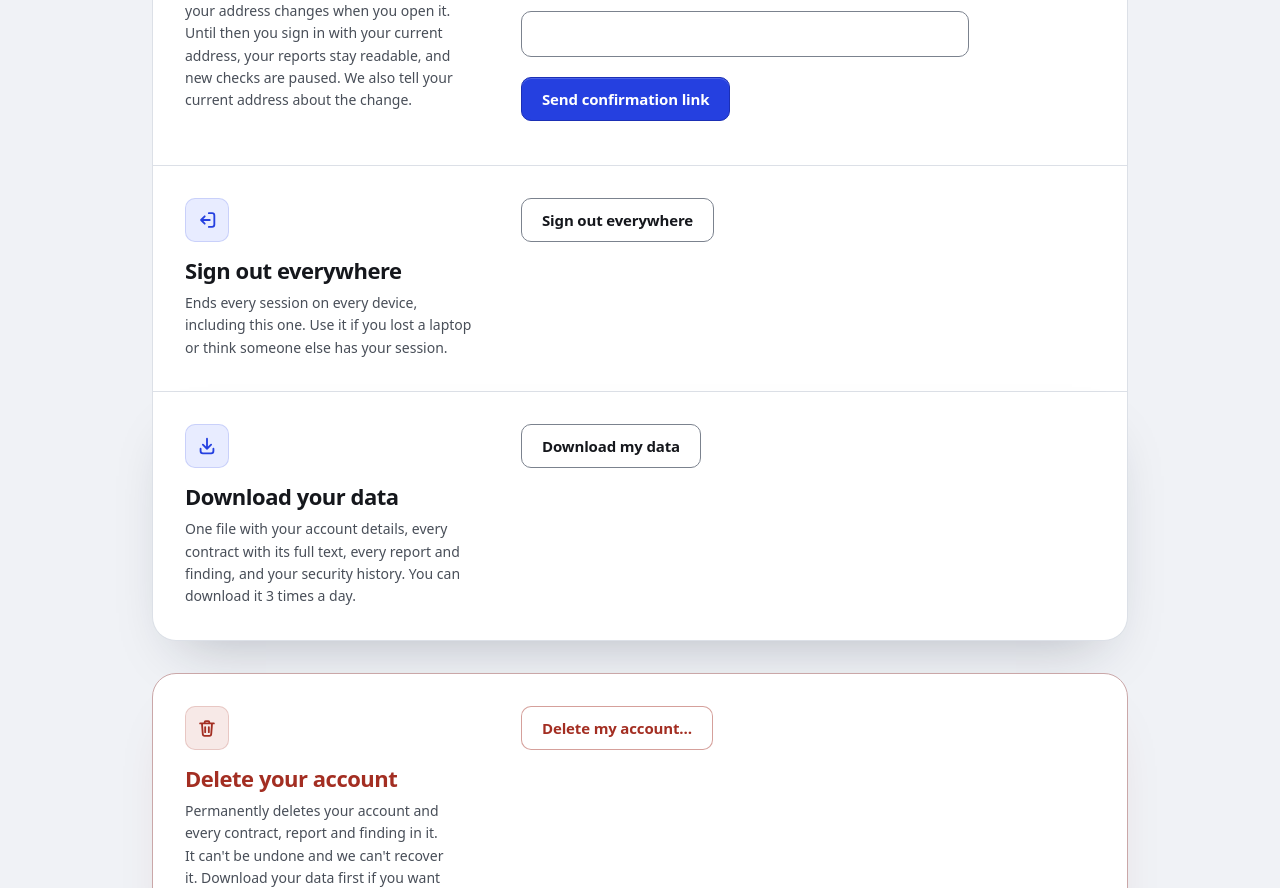
Test: SettingsPage (FR-7.1, FR-1.9, FR-4.5, FR-4.6) › download my data › fetches the export and saves it as a dated JSON file
(page scrolled)
Step 1. Click the button "Download my data" → (611, 446), box 521,424 -> 701,468
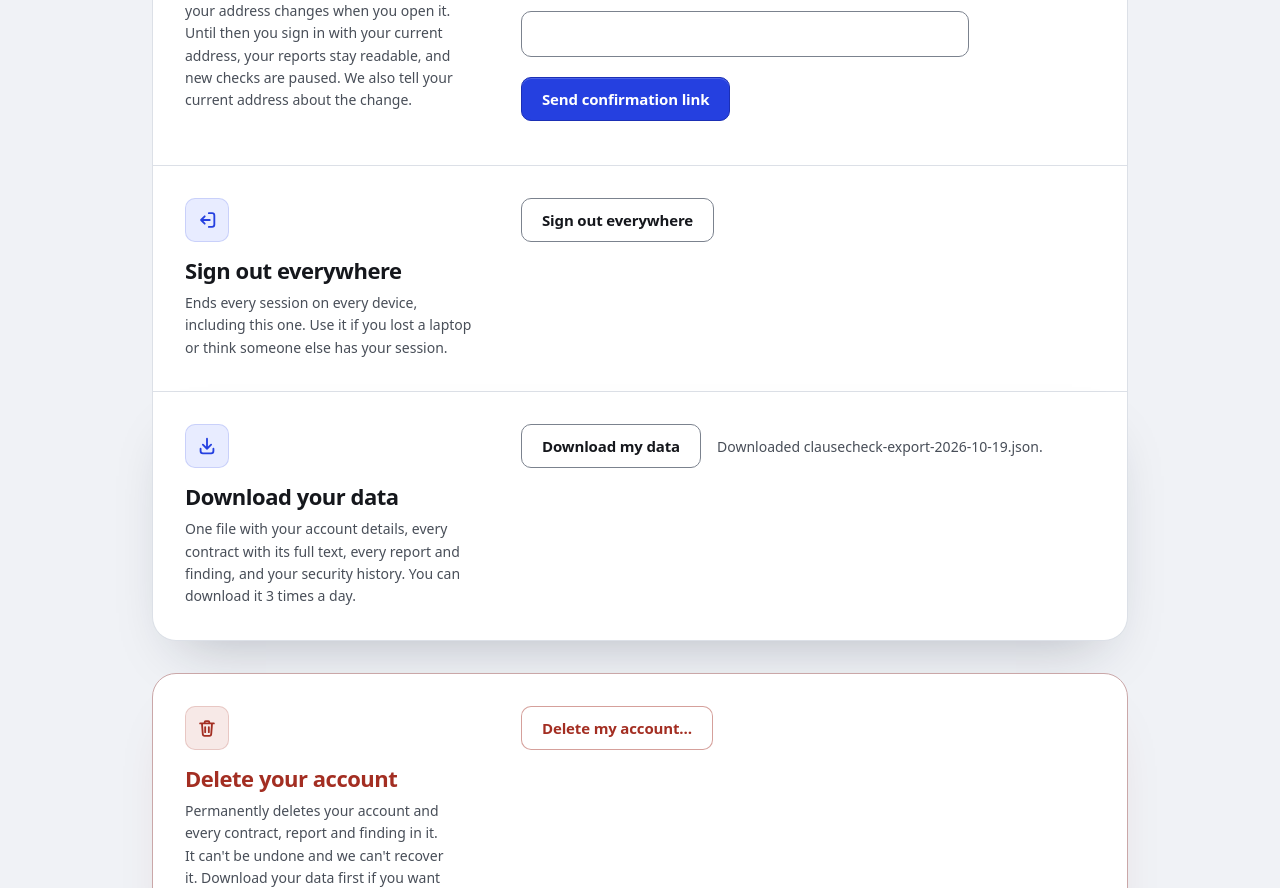
expect the text "Downloaded clausecheck-export-2026-10-19.json." is shown: met, box 717,437 -> 1095,456
